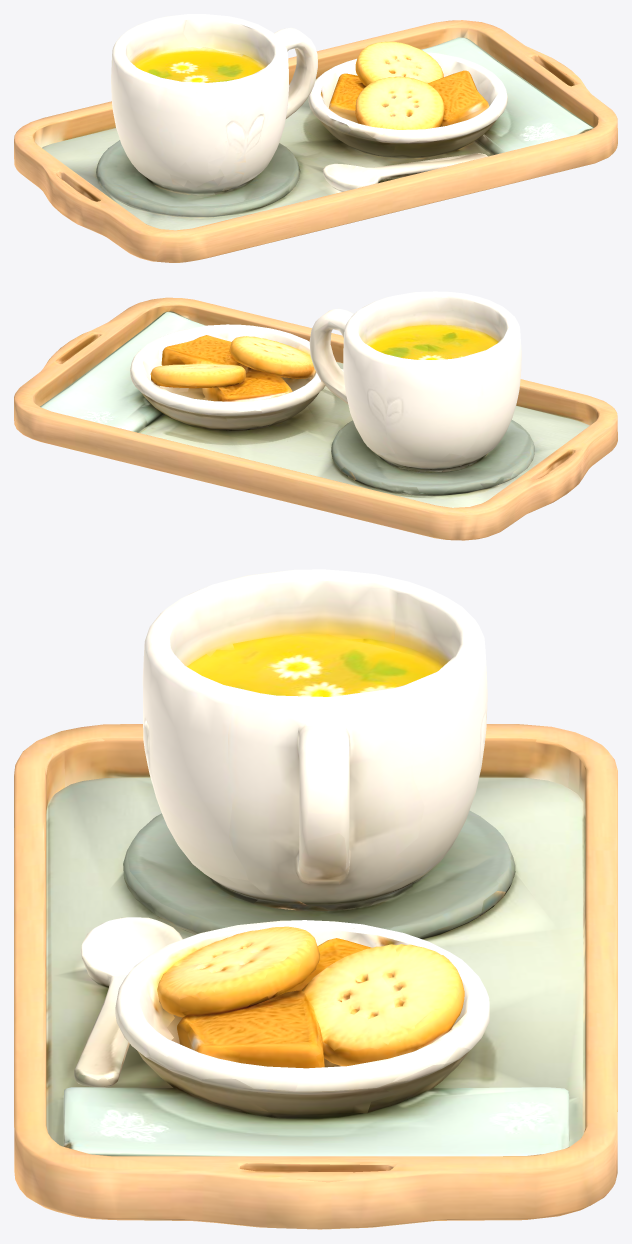
File: infusion-pastas.glb
The picture shows the model from 3 angles, top to bottom: view 1: azimuth 30°, elevation 25°; view 2: azimuth 150°, elevation 25°; view 3: azimuth 270°, elevation 25°; orthographic projection. The views are drawn at different scales.
Visible parts, largest first — view 1: node_0.002; view 2: node_0.002; view 3: node_0.002.
Boxes of the visible parts, left/top/right/bottom form: node_0.002: left=14, top=14, right=617, bottom=262; node_0.002: left=14, top=291, right=617, bottom=540; node_0.002: left=14, top=569, right=617, bottom=1229.
Size of the model in its own units: 0.6269 by 0.1589 by 0.3425.
1 material, 1 textured.
